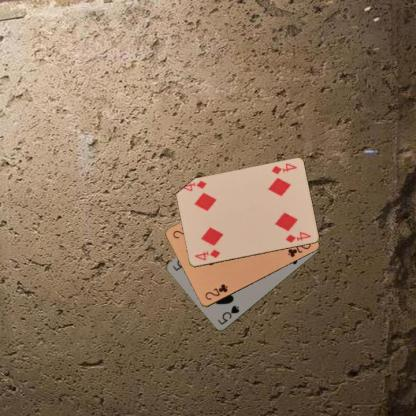2c: (202, 282, 229, 302)
4d: (268, 160, 298, 176), (192, 247, 221, 262)
5s: (215, 303, 241, 326)
